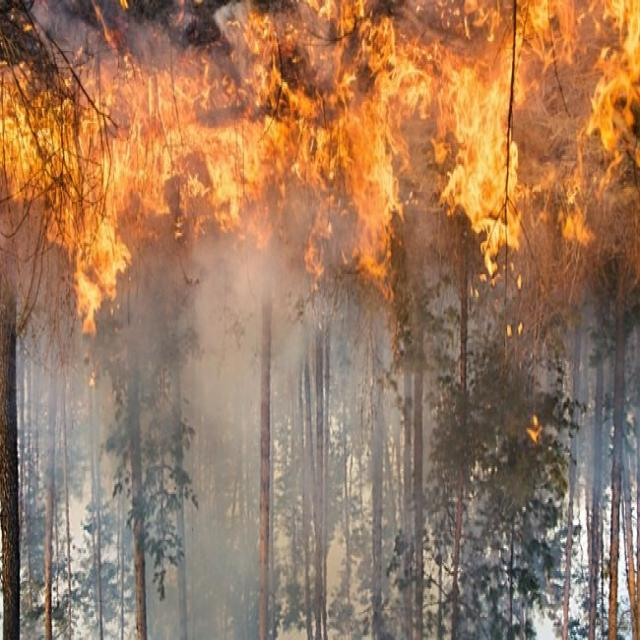fire: (520, 301, 557, 338), (358, 600, 382, 640)
